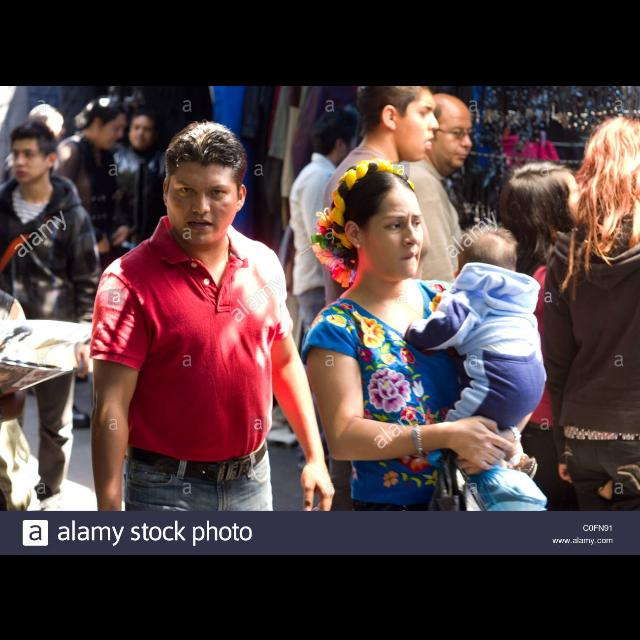head: (160, 120, 248, 246), (340, 166, 424, 280), (496, 158, 590, 250), (412, 92, 474, 172), (452, 224, 520, 294), (419, 90, 477, 170), (10, 125, 60, 183), (319, 113, 363, 161), (87, 99, 127, 150), (29, 102, 65, 144), (128, 111, 156, 149)
person: (394, 223, 560, 509), (0, 109, 106, 511), (30, 95, 136, 432), (282, 111, 380, 445), (92, 105, 186, 415), (0, 96, 84, 408)
